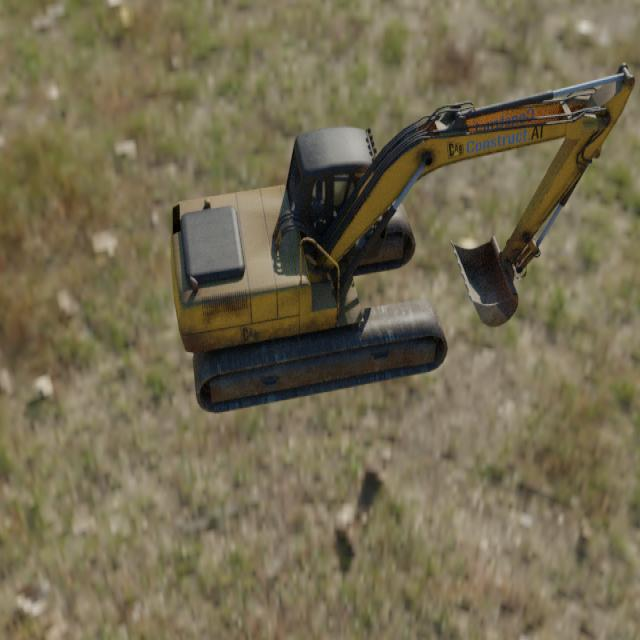excavator: (170, 61, 634, 414)
